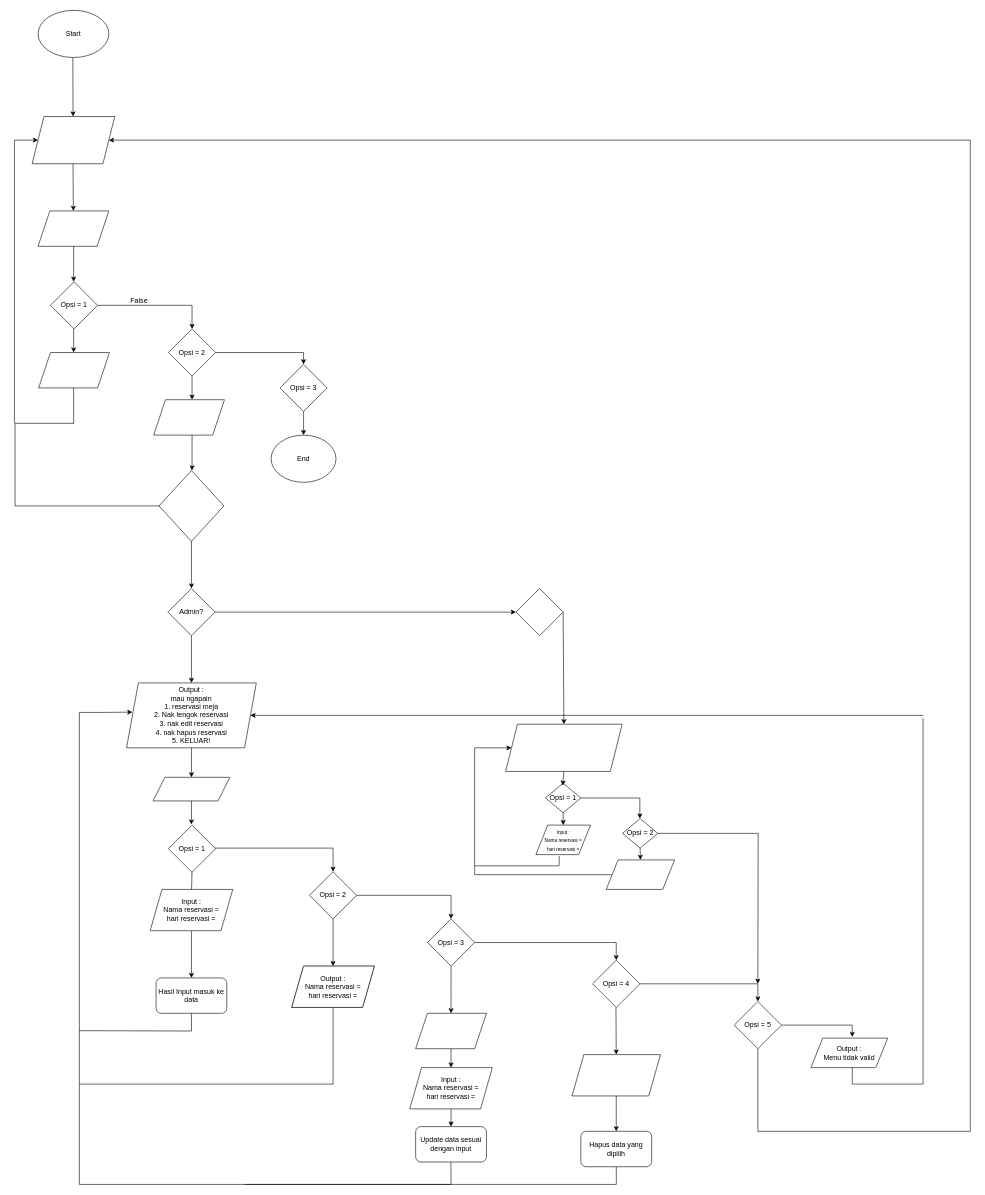
Some shapes in this 985 by 1195 pixel diagram are drawn without their labels. Here are the shapes that lost their labels. From the top down, the box of each, then its label:
(32, 116, 115, 164): Output : Opsi 1. Daftar Akun 2. Login 3. Exit
(37, 210, 109, 246): Input Opsi
(38, 352, 109, 388): Input : Username Password Role
(153, 399, 224, 435): Input : Username Password
(158, 470, 224, 541): Username dan Password
(515, 588, 563, 636): Pengguna?
(505, 724, 622, 771): Output : SYILAHKAN PUH 1. Reservasi Meja 2. Nak tengok reservasi 5. Exit
(153, 777, 230, 801): Input : Opsi Admin
(606, 859, 675, 889): Output: nama dan hari reservasi yang sudah di inputi
(415, 1013, 486, 1049): Input : Data yang mau di edit
(571, 1054, 661, 1096): Input : Pilih data yang mau dihapus
